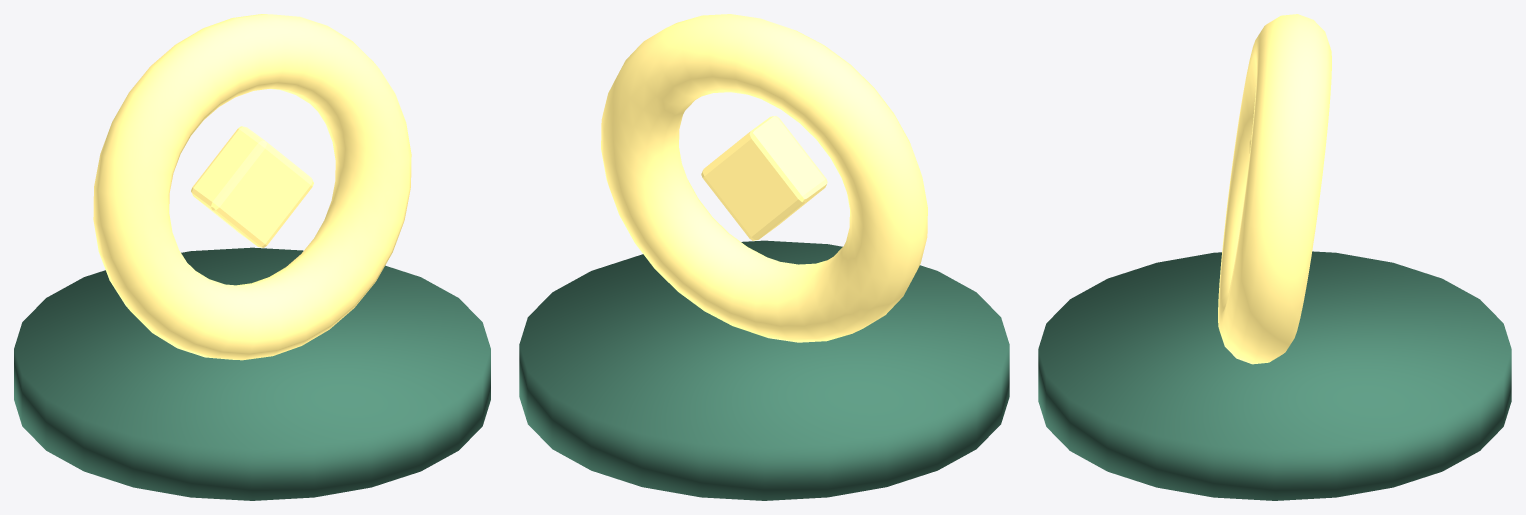
File: prop_sorte_azar.glb
The picture shows the model from 3 angles, left to right: view 1: azimuth 30°, elevation 25°; view 2: azimuth 150°, elevation 25°; view 3: azimuth 270°, elevation 25°; orthographic projection. The views are drawn at different scales.
Parts seen in each view (by area): view 1: CharmPad, Horseshoe, CenterGem; view 2: CharmPad, Horseshoe, CenterGem; view 3: CharmPad, Horseshoe.
Part boxes in pixels (x1=…): CharmPad: x1=14, y1=247, x2=490, y2=500; Horseshoe: x1=93, y1=14, x2=411, y2=360; CenterGem: x1=191, y1=126, x2=313, y2=247; CharmPad: x1=519, y1=240, x2=1009, y2=500; Horseshoe: x1=601, y1=14, x2=927, y2=342; CenterGem: x1=701, y1=116, x2=827, y2=240; CharmPad: x1=1038, y1=251, x2=1511, y2=500; Horseshoe: x1=1218, y1=14, x2=1331, y2=364.
Size of the model in its own units: 0.3 by 0.2589 by 0.3.
